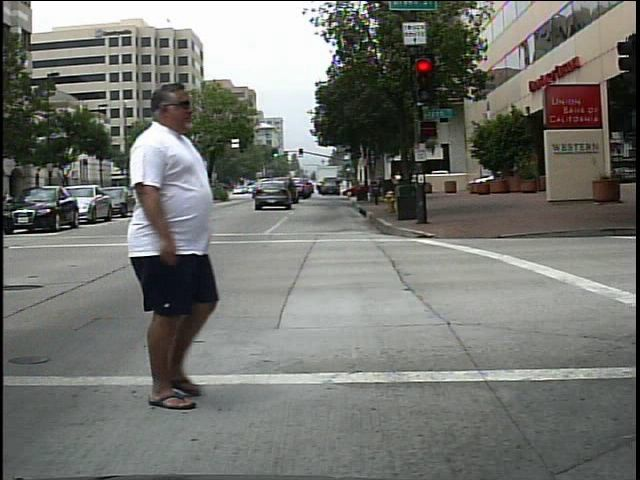person: (70, 80, 237, 413)
